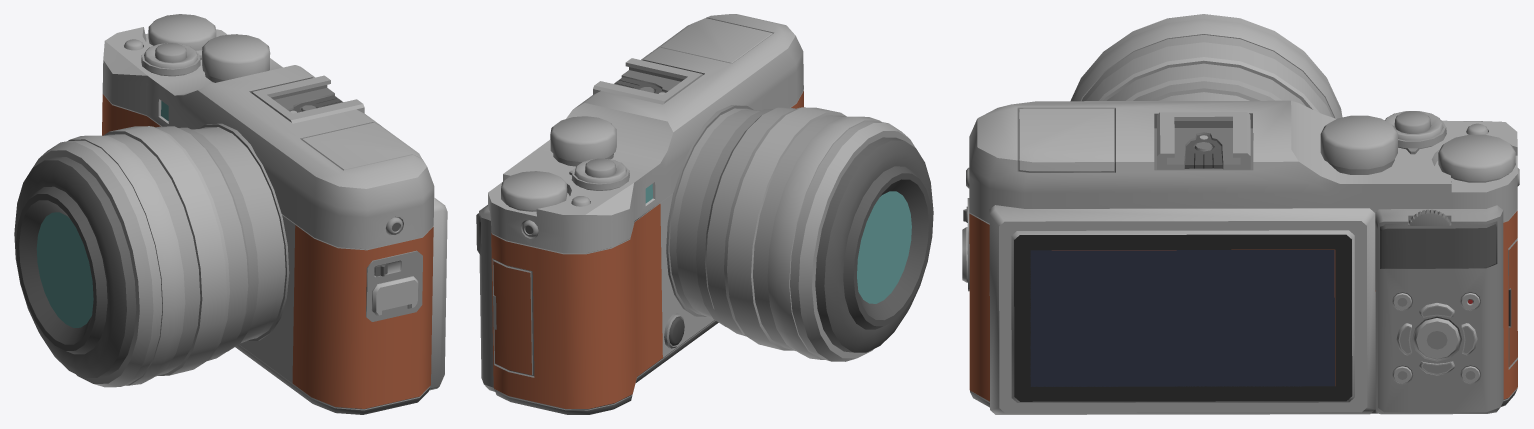
File: camera_xyz_blend.glb
3 views of the same model, side by side, from view 1: azimuth 30°, elevation 25°; view 2: azimuth 150°, elevation 25°; view 3: azimuth 270°, elevation 25° (orthographic). The views are drawn at different scales.
Parts seen in each view (by area): view 1: Camera; view 2: Camera; view 3: Camera, Screen.
Part boxes in pixels (left/top/right/bottom): Camera: left=14, top=14, right=447, bottom=414; Camera: left=476, top=14, right=933, bottom=414; Camera: left=962, top=14, right=1519, bottom=414; Screen: left=1030, top=250, right=1334, bottom=386.
Bounding box in the file's own units: 3.42 × 2.54 × 4.81.
